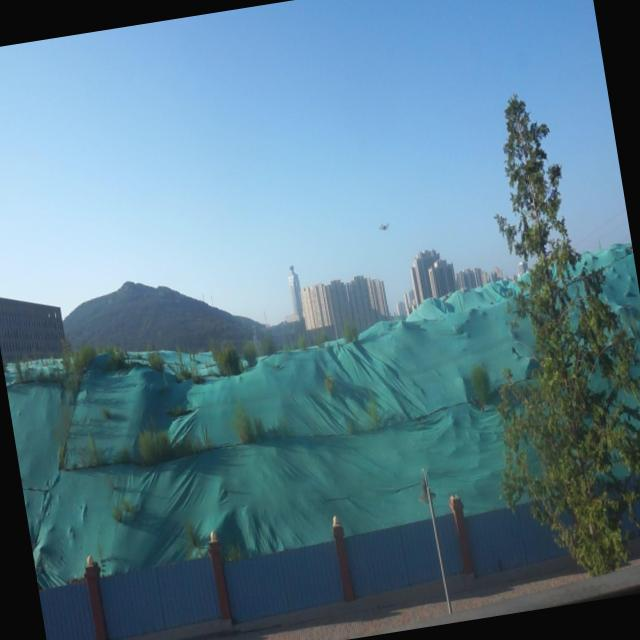drone: (377, 217, 392, 233)
